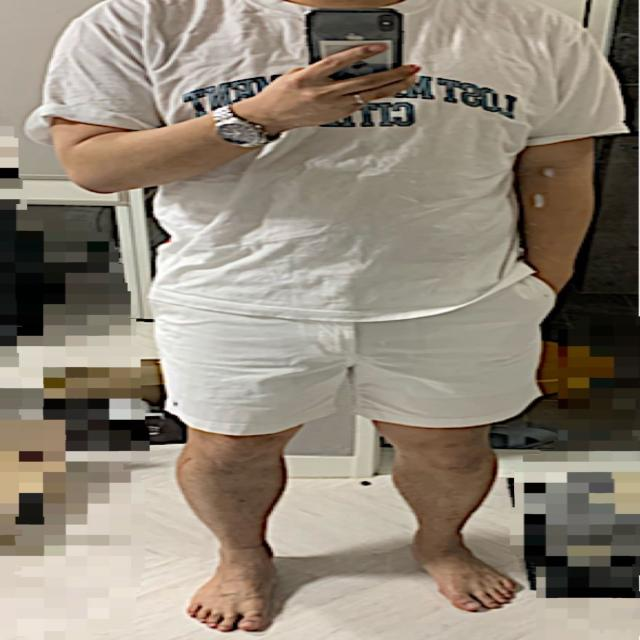shortpants: (149, 273, 552, 441)
shortsleeve: (34, 0, 629, 323)
